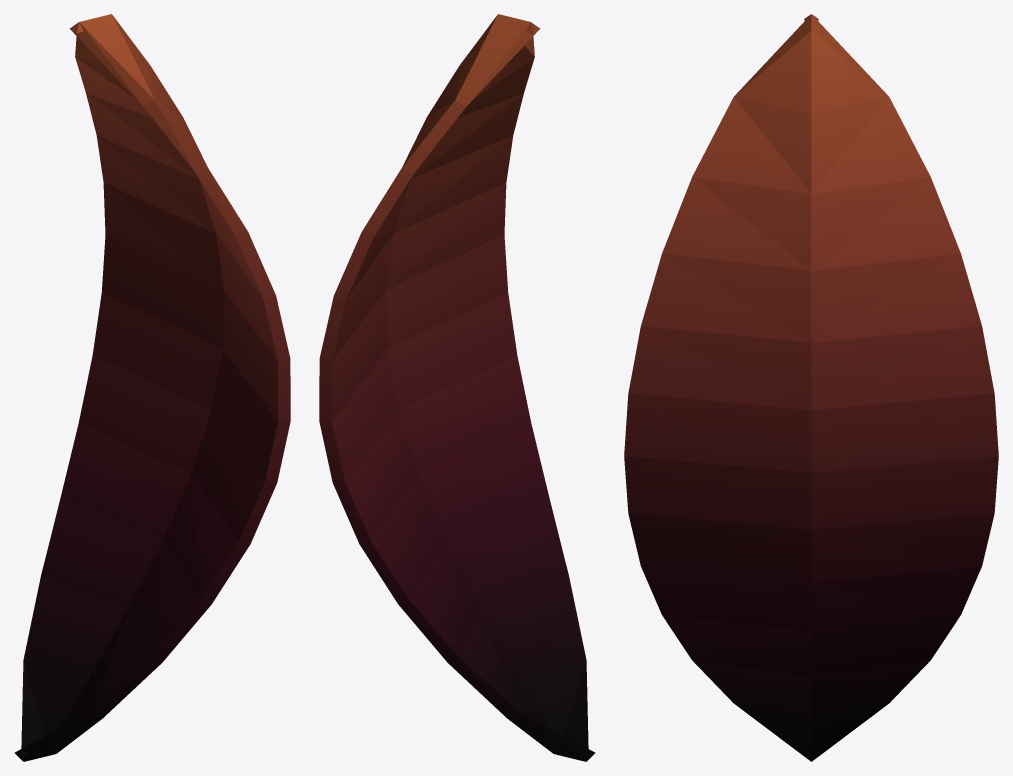
File: SM_Alien_Bloom_Petal_02.fbx
The picture shows the model from 3 angles, left to right: view 1: azimuth 30°, elevation 25°; view 2: azimuth 150°, elevation 25°; view 3: azimuth 270°, elevation 25°; orthographic projection. The views are drawn at different scales.
Visible parts, largest first — view 1: SM_Alien_Bloom_Petal_02; view 2: SM_Alien_Bloom_Petal_02; view 3: SM_Alien_Bloom_Petal_02.
Part boxes in pixels (<box>): SM_Alien_Bloom_Petal_02: <box>14,14,290,761</box>; SM_Alien_Bloom_Petal_02: <box>319,14,595,761</box>; SM_Alien_Bloom_Petal_02: <box>624,14,998,761</box>.
Bounding box in the file's own units: 26.66 × 38 × 85.
